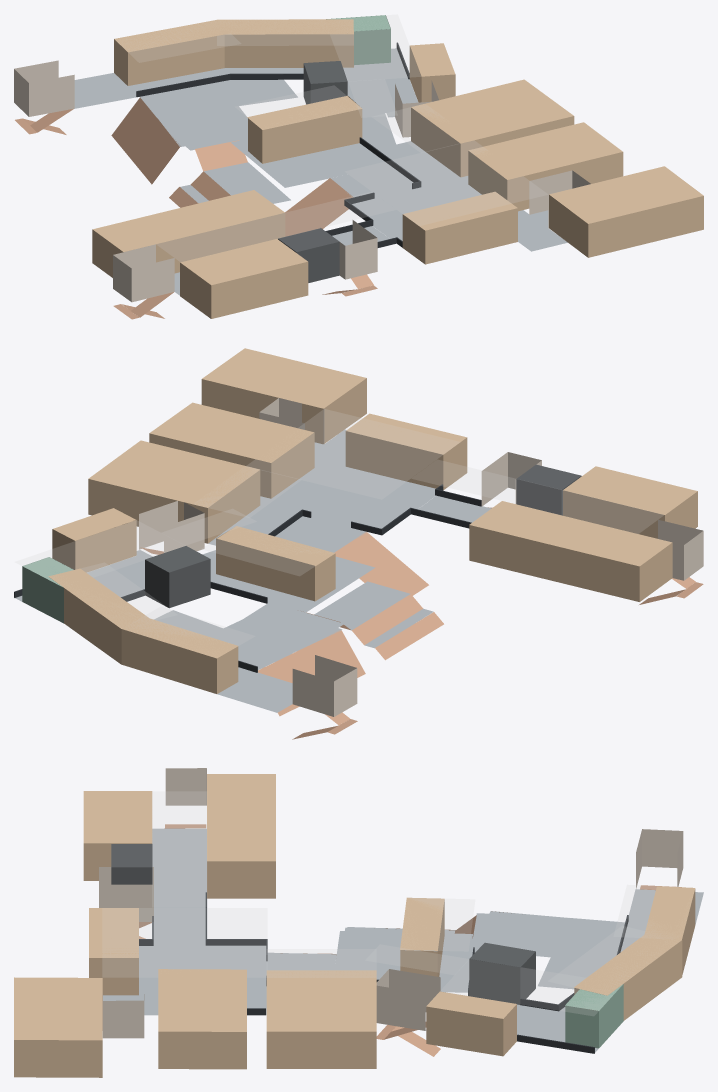
3 renders of one model, top to bottom at view 1: azimuth 30°, elevation 25°; view 2: azimuth 150°, elevation 25°; view 3: azimuth 270°, elevation 25°, orthographic. The views are drawn at different scales.
Parts seen in each view (by area): view 1: 立方體.007, 立方體.169, 立方體.144, 立方體.150, 立方體.009, 立方體.171, 立方體.087, 立方體.044, 立方體.086, 立方體.113, 立方體.073, 立方體.030 (+41 smaller); view 2: 立方體.144, 立方體.169, 立方體.007, 立方體.150, 立方體.087, 立方體.093, 立方體.009, 立方體.171, 立方體.086, 立方體.145, 立方體.073, 立方體.030 (+37 smaller); view 3: 立方體.144, 立方體.169, 立方體.007, 立方體.150, 立方體.090, 立方體.171, 立方體.086, 立方體.093, 立方體.145, Cube.003, 立方體.009, Cube.004 (+31 smaller).
Part boxes in pixels (x1=…): 立方體.007: x1=549, y1=166, x2=703, y2=257; 立方體.169: x1=346, y1=141, x2=547, y2=225; 立方體.144: x1=411, y1=79, x2=574, y2=177; 立方體.150: x1=468, y1=122, x2=623, y2=211; 立方體.009: x1=402, y1=191, x2=517, y2=264; 立方體.171: x1=157, y1=192, x2=395, y2=261; 立方體.087: x1=92, y1=208, x2=209, y2=277; 立方體.044: x1=180, y1=249, x2=265, y2=318; 立方體.086: x1=179, y1=190, x2=285, y2=254; 立方體.113: x1=224, y1=34, x2=353, y2=67; 立方體.073: x1=248, y1=95, x2=362, y2=163; 立方體.030: x1=114, y1=34, x2=224, y2=85; 立方體.144: x1=88, y1=440, x2=260, y2=543; 立方體.169: x1=247, y1=409, x2=459, y2=498; 立方體.007: x1=201, y1=348, x2=366, y2=444; 立方體.150: x1=149, y1=402, x2=314, y2=498; 立方體.087: x1=548, y1=520, x2=672, y2=601; 立方體.093: x1=260, y1=444, x2=435, y2=528; 立方體.009: x1=345, y1=413, x2=467, y2=490; 立方體.171: x1=412, y1=460, x2=663, y2=533; 立方體.086: x1=469, y1=501, x2=580, y2=579; 立方體.145: x1=15, y1=520, x2=184, y2=582; 立方體.073: x1=216, y1=529, x2=335, y2=601; 立方體.030: x1=121, y1=629, x2=238, y2=693; 立方體.144: x1=266, y1=970, x2=376, y2=1068; 立方體.169: x1=103, y1=908, x2=266, y2=976; 立方體.007: x1=14, y1=977, x2=102, y2=1077; 立方體.150: x1=158, y1=969, x2=246, y2=1069; 立方體.090: x1=152, y1=828, x2=207, y2=945; 立方體.171: x1=152, y1=792, x2=206, y2=906; 立方體.086: x1=207, y1=820, x2=275, y2=898; 立方體.093: x1=103, y1=945, x2=267, y2=1015; 立方體.145: x1=441, y1=959, x2=616, y2=1015; Cube.003: x1=334, y1=931, x2=472, y2=992; 立方體.009: x1=89, y1=908, x2=138, y2=995; Cube.004: x1=538, y1=918, x2=636, y2=989.
Bounding box in the file's own units: 46.77 × 6.04 × 50.09.
